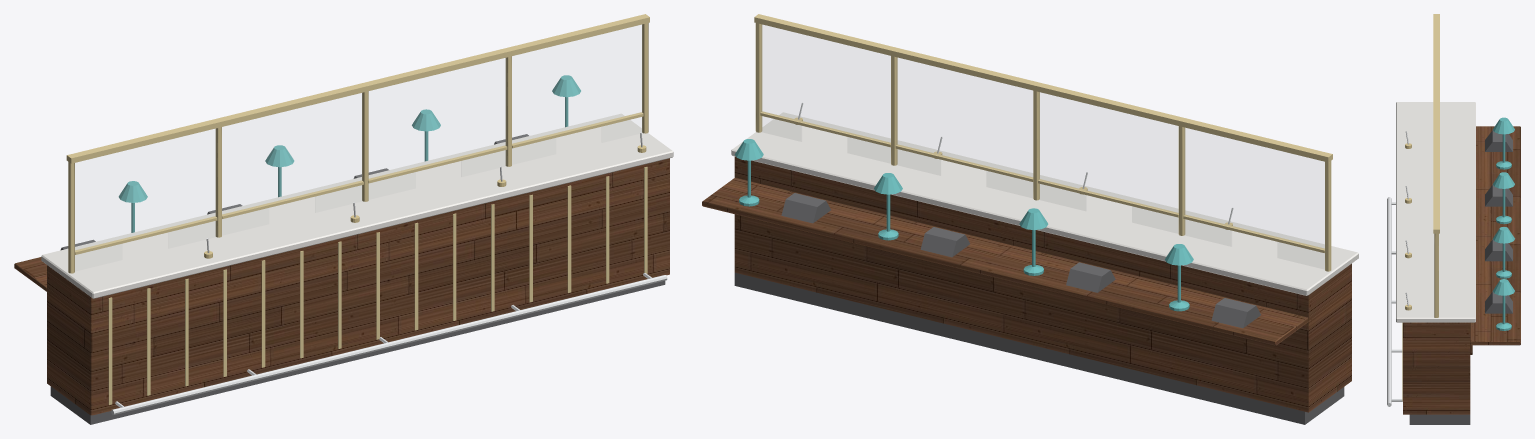
The model's file is teller_counter.glb.
The picture shows the model from 3 angles, left to right: view 1: azimuth 30°, elevation 25°; view 2: azimuth 150°, elevation 25°; view 3: azimuth 270°, elevation 25°; orthographic projection. The views are drawn at different scales.
Parts seen in each view (by area): view 1: teller_counter_walnut, teller_counter_glass, teller_counter_marble, teller_counter_gold, teller_counter_chrome, teller_counter_dark, teller_counter_teal; view 2: teller_counter_walnut, teller_counter_glass, teller_counter_marble, teller_counter_gold, teller_counter_dark, teller_counter_teal; view 3: teller_counter_marble, teller_counter_walnut, teller_counter_dark, teller_counter_gold, teller_counter_teal, teller_counter_chrome, teller_counter_brass.
Part boxes in pixels (x1,y1,x2,y2): teller_counter_walnut: (14,158,669,415); teller_counter_glass: (75,25,642,270); teller_counter_marble: (41,113,673,298); teller_counter_gold: (66,14,649,404); teller_counter_chrome: (111,132,667,414); teller_counter_dark: (50,134,665,424); teller_counter_teal: (118,75,580,232); teller_counter_walnut: (702,156,1351,412); teller_counter_glass: (762,25,1324,268); teller_counter_marble: (731,112,1358,295); teller_counter_gold: (754,14,1332,271); teller_counter_dark: (734,193,1344,424); teller_counter_teal: (734,139,1193,311); teller_counter_marble: (1396,102,1475,322); teller_counter_walnut: (1403,126,1520,414); teller_counter_dark: (1409,130,1512,424); teller_counter_gold: (1402,14,1439,401); teller_counter_teal: (1493,117,1514,330); teller_counter_chrome: (1387,131,1408,406); teller_counter_brass: (1405,143,1411,310).
Bounding box in the file's own units: 4.56 × 1.92 × 1.19.
Materials: 8 (1 with a texture image).
